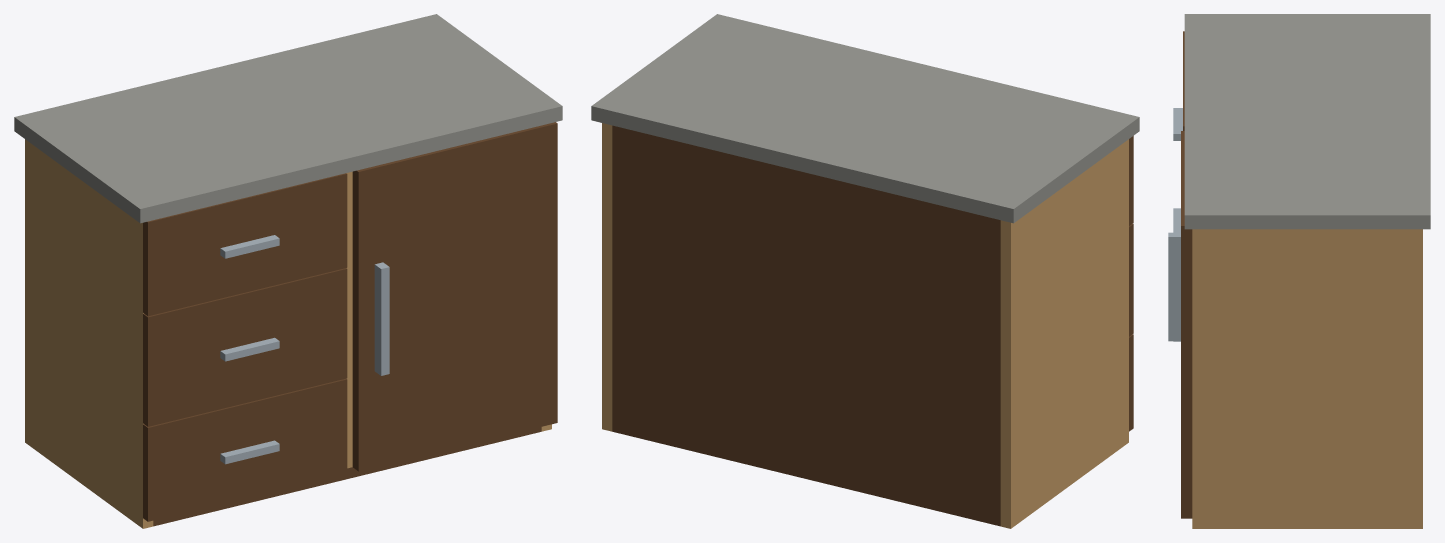
File: GI_Counter_Kitchen_01.glb
The picture shows the model from 3 angles, left to right: view 1: azimuth 30°, elevation 25°; view 2: azimuth 150°, elevation 25°; view 3: azimuth 270°, elevation 25°; orthographic projection. The views are drawn at different scales.
Parts seen in each view (by area): view 1: GI_Counter_Kitchen_01, Door, Drawer2, Drawer3, Drawer1; view 2: GI_Counter_Kitchen_01; view 3: GI_Counter_Kitchen_01, Door, Drawer1.
Boxes of the visible parts, box(x1,y1,x2,y2) form: GI_Counter_Kitchen_01: box(14, 14, 562, 528); Door: box(352, 122, 557, 471); Drawer2: box(143, 268, 347, 426); Drawer3: box(143, 378, 347, 521); Drawer1: box(143, 173, 347, 316); GI_Counter_Kitchen_01: box(591, 14, 1139, 528); GI_Counter_Kitchen_01: box(1184, 14, 1430, 528); Door: box(1168, 131, 1192, 518); Drawer1: box(1173, 31, 1184, 140).
Bounding box in the file's own units: 1.24 × 0.91 × 0.683.
Materials: 1 (1 with a texture image).
